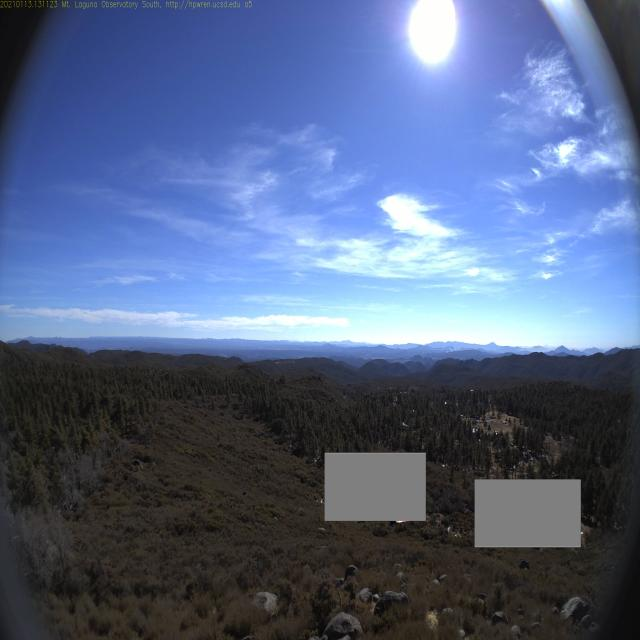smoke: (444, 344, 466, 356)
